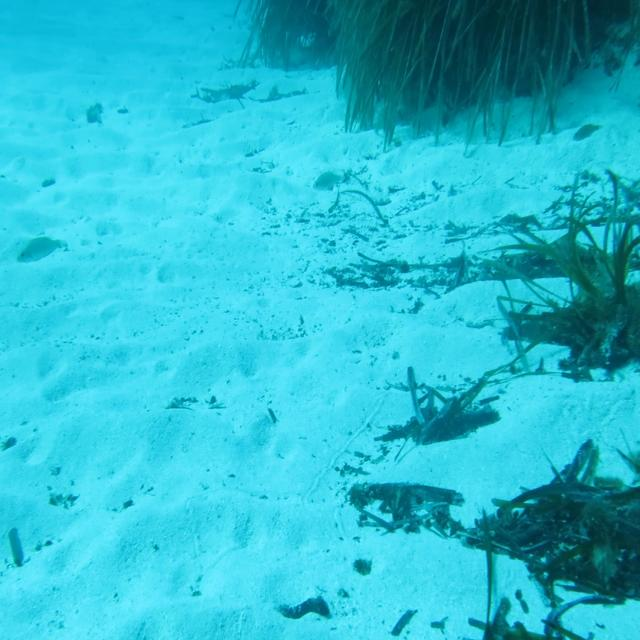BN: (11, 231, 67, 268)
female: (308, 169, 353, 193)
vegetation: (331, 0, 562, 84), (546, 274, 640, 360), (535, 499, 640, 573), (254, 0, 332, 68), (462, 595, 550, 640), (364, 479, 448, 518), (328, 260, 450, 286), (413, 401, 464, 437), (275, 591, 328, 623), (388, 604, 415, 636), (349, 554, 372, 577)
